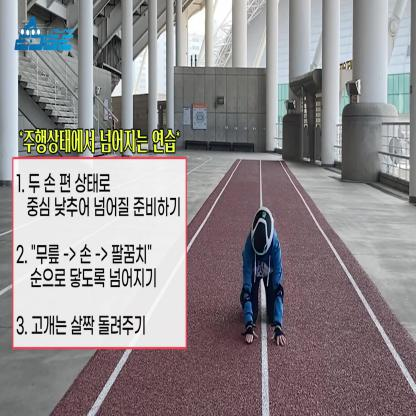Fall_Down: (241, 207, 288, 348)
